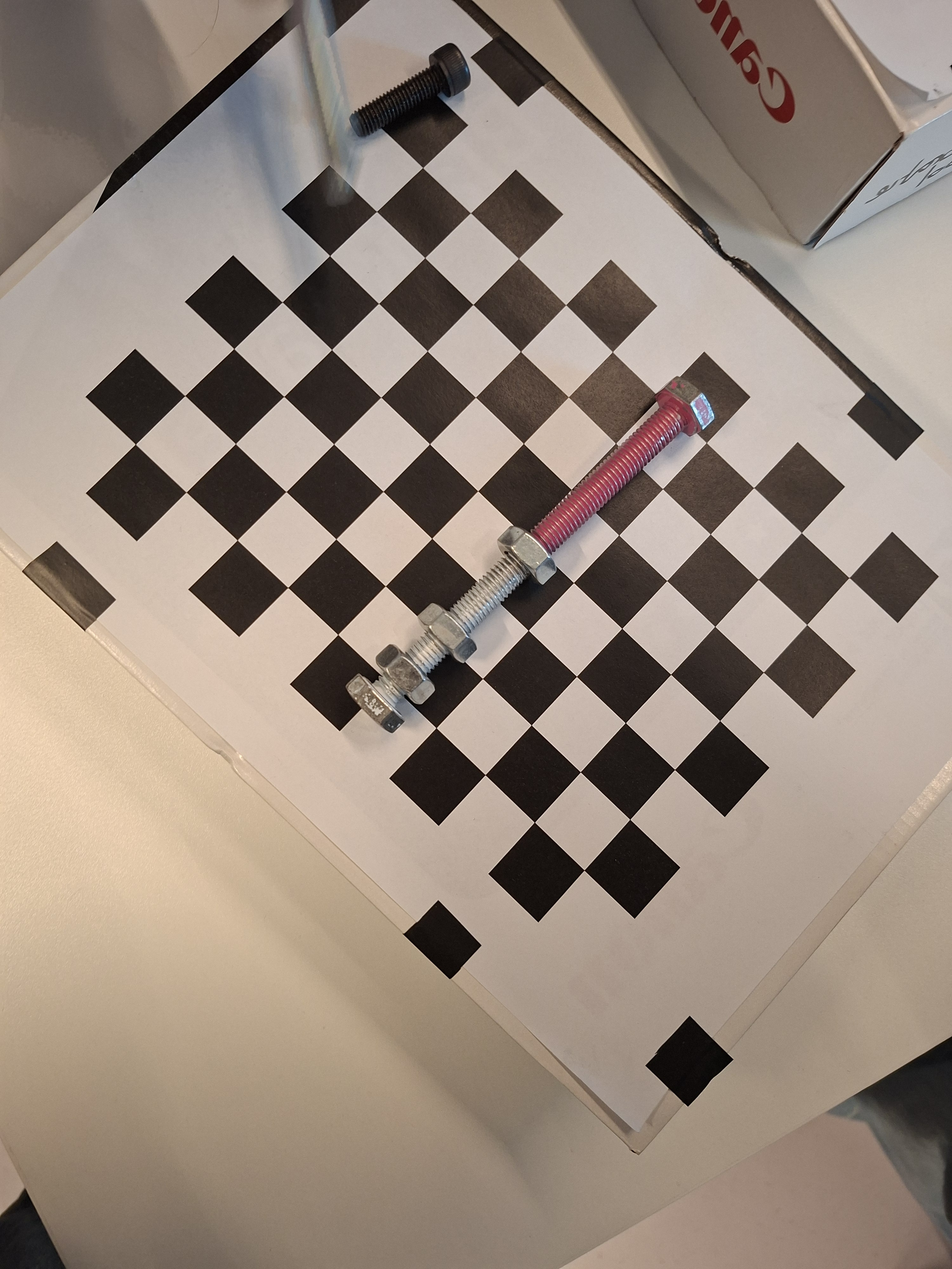allen_screw: (340, 29, 489, 156)
hex_bolt: (335, 522, 569, 747), (504, 365, 733, 586)
hex_nut: (488, 518, 564, 595), (369, 635, 445, 711), (411, 597, 486, 672)
